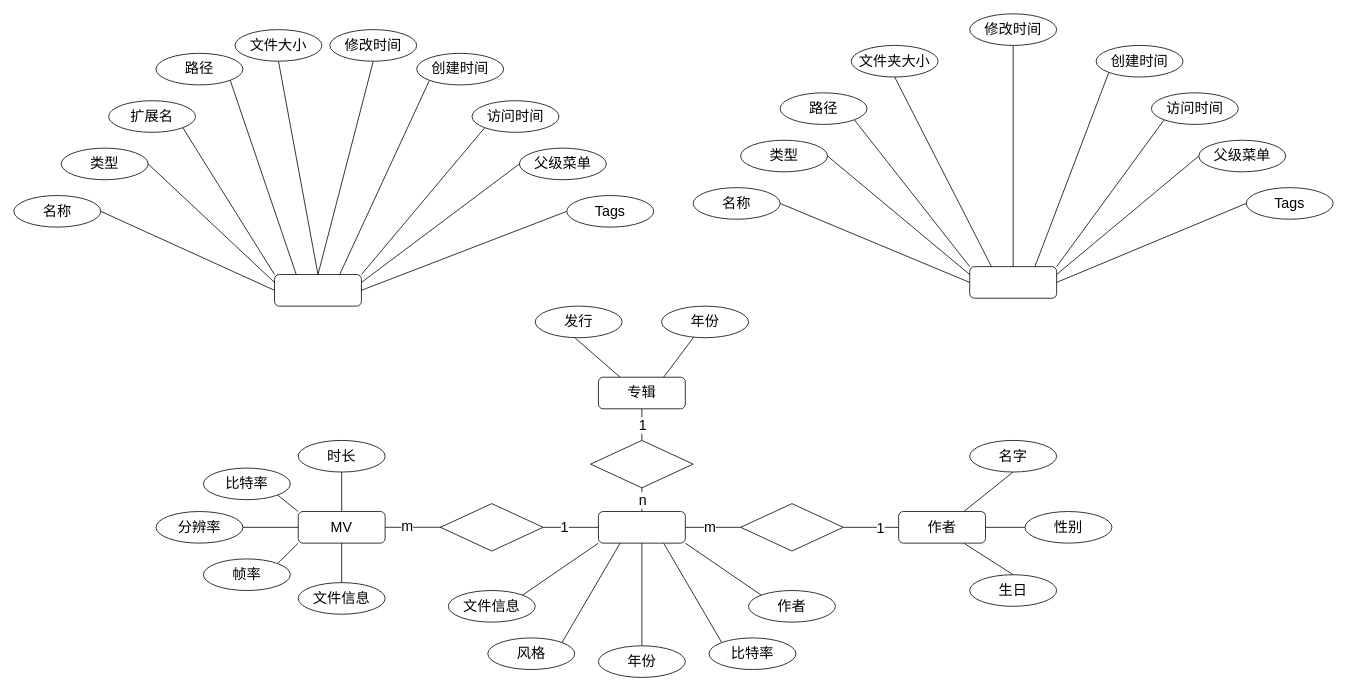
Image size: 1347x691. Some labels were removed from this diagram. The centre of each missing label's shape, as x and y in pixels:
"对应" goes at point (491, 527).
"属于" goes at point (641, 464).
"文件" goes at point (317, 290).
"文件夹" goes at point (1013, 282).
"演唱" goes at point (791, 527).
"音乐" goes at point (641, 527).
